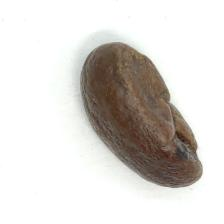NG: (155, 74, 199, 163)
